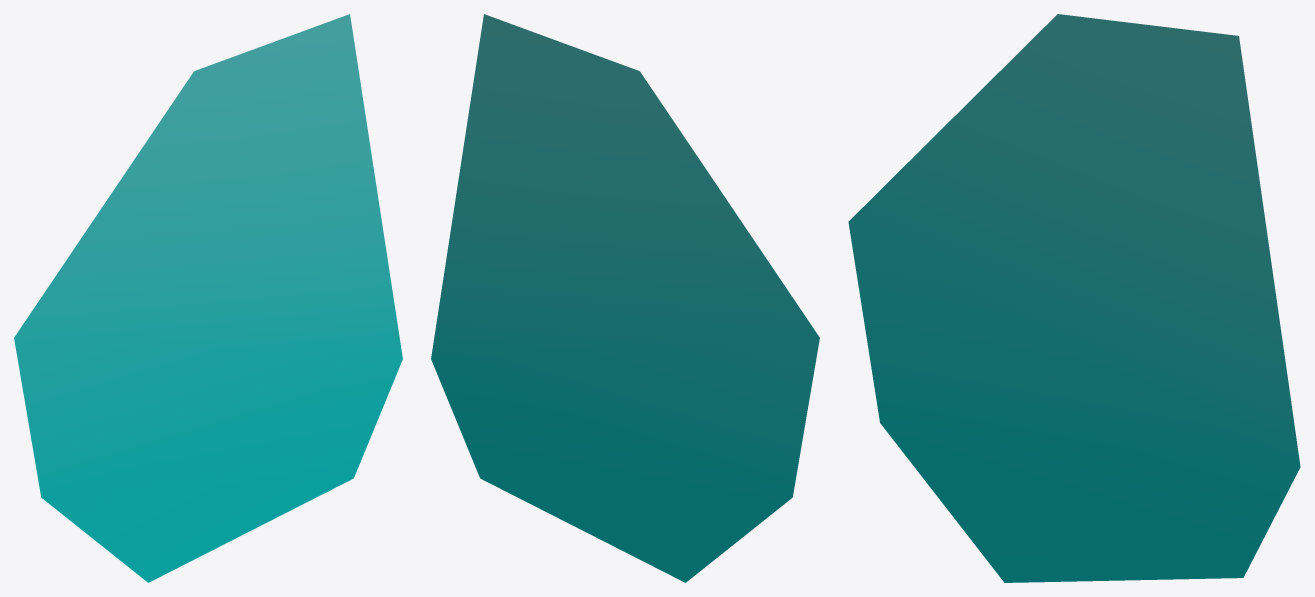
File: Grass_slBm1_Mid_slBm1_VarF_LOD2.fbx
The picture shows the model from 3 angles, left to right: view 1: azimuth 30°, elevation 25°; view 2: azimuth 150°, elevation 25°; view 3: azimuth 330°, elevation 25°; orthographic projection. The views are drawn at different scales.
Parts seen in each view (by area): view 1: _3189_VarF_LOD3; view 2: _3189_VarF_LOD3; view 3: _3189_VarF_LOD3.
Boxes of the visible parts, bbox=[...] form: _3189_VarF_LOD3: bbox=[14, 14, 402, 582]; _3189_VarF_LOD3: bbox=[431, 14, 819, 582]; _3189_VarF_LOD3: bbox=[848, 14, 1300, 582].
Bounding box in the file's own units: 38.95 × 49.74 × 0.
